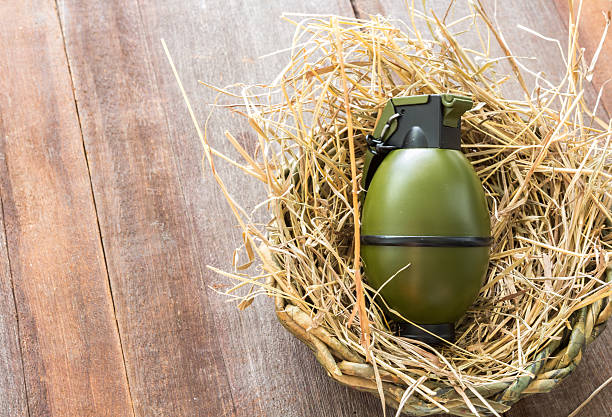e1: (352, 93, 493, 341)
